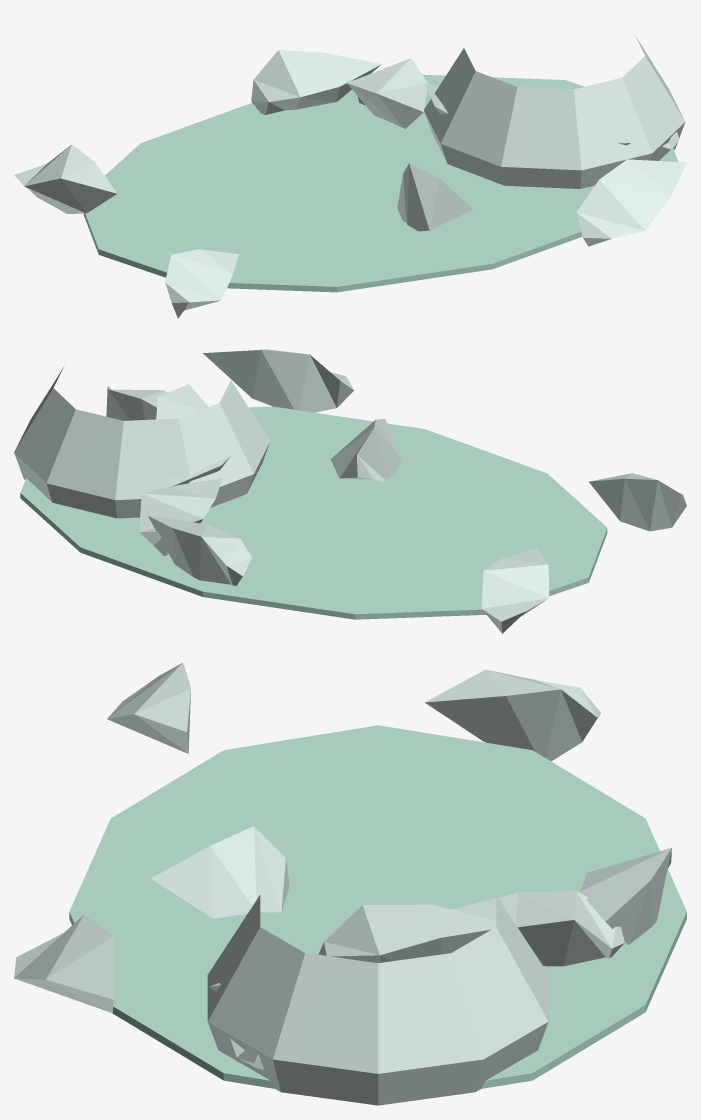
Rendered from lab_glass_broken.glb.
3 renders of one model, top to bottom at view 1: azimuth 30°, elevation 25°; view 2: azimuth 150°, elevation 25°; view 3: azimuth 270°, elevation 25°, orthographic. The views are drawn at different scales.
Parts seen in each view (by area): view 1: lab_glass_broken; view 2: lab_glass_broken; view 3: lab_glass_broken.
Part boxes in pixels (x1=…): lab_glass_broken: x1=14, y1=34, x2=686, y2=318; lab_glass_broken: x1=14, y1=349, x2=686, y2=633; lab_glass_broken: x1=14, y1=662, x2=686, y2=1105.
Size of the model in its own units: 0.6695 by 0.1123 by 0.4882.
